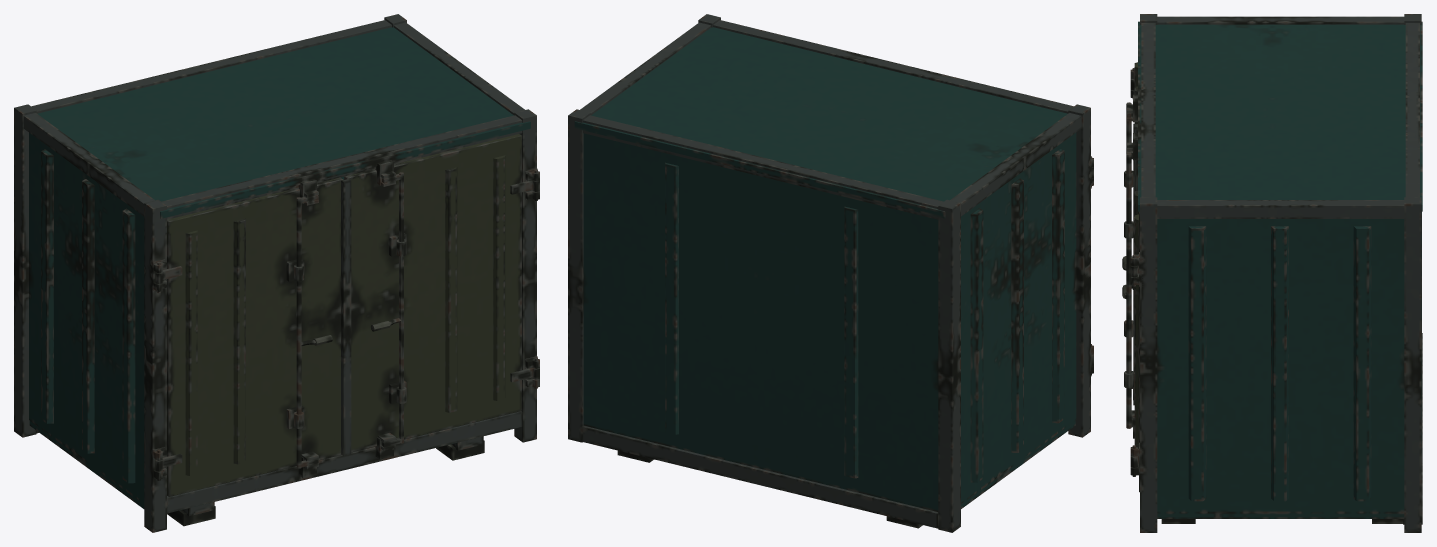
The model's file is compact_steel_container.glb.
3 renders of one model, left to right at view 1: azimuth 30°, elevation 25°; view 2: azimuth 150°, elevation 25°; view 3: azimuth 270°, elevation 25°, orthographic.
Parts seen in each view (by area): view 1: ContainerBody, ContainerDoorLeft, ContainerDoorRight, ContainerLockLeft, ContainerLockRight; view 2: ContainerBody; view 3: ContainerBody, ContainerDoorRight, ContainerLockRight, ContainerDoorLeft.
Boxes of the visible parts, bbox=[...] form: ContainerBody: bbox=[14, 14, 539, 532]; ContainerDoorLeft: bbox=[155, 177, 351, 496]; ContainerDoorRight: bbox=[344, 134, 539, 452]; ContainerLockLeft: bbox=[296, 195, 332, 468]; ContainerLockRight: bbox=[371, 172, 403, 447]; ContainerBody: bbox=[568, 14, 1093, 532]; ContainerBody: bbox=[1127, 14, 1422, 532]; ContainerDoorRight: bbox=[1124, 191, 1139, 492]; ContainerLockRight: bbox=[1122, 151, 1131, 428]; ContainerDoorLeft: bbox=[1124, 62, 1137, 405].
Size of what is drawn, in the model's own units: 1.2 by 1 by 0.8.
1 material, 1 textured.
